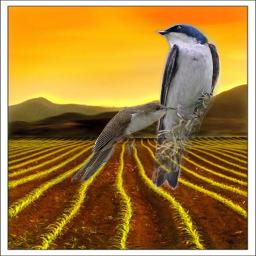Cuckoo: (71, 102, 177, 182)
Swallow: (149, 22, 221, 190)
